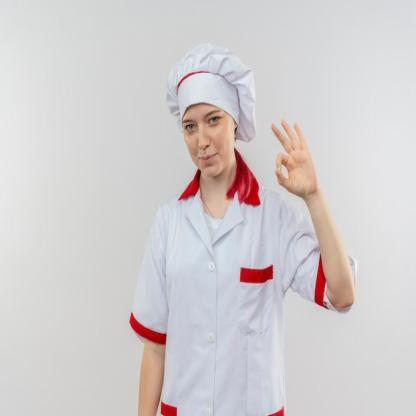ok: (270, 115, 320, 202)
